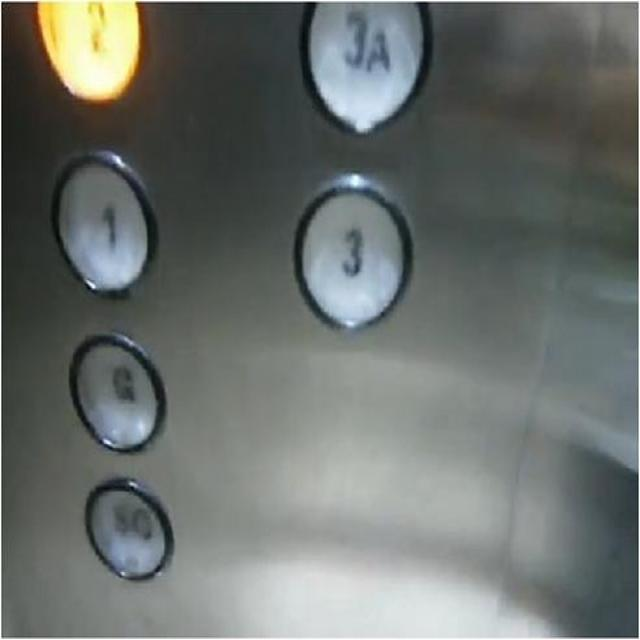1: (49, 148, 160, 304)
3: (289, 172, 413, 332)
3A: (297, 0, 430, 136)
G: (65, 328, 166, 455)
blur: (83, 474, 175, 586)
